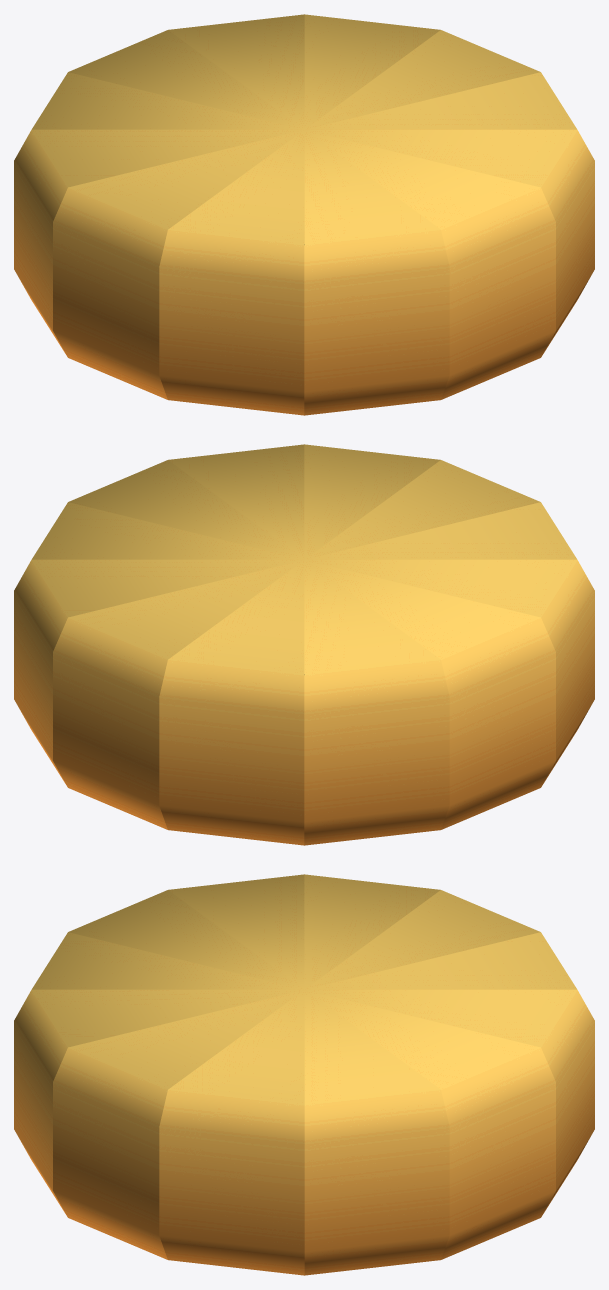
The model's file is cheese.glb.
3 renders of one model, top to bottom at view 1: azimuth 30°, elevation 25°; view 2: azimuth 150°, elevation 25°; view 3: azimuth 270°, elevation 25°, orthographic.
Visible parts, largest first — view 1: wedge (×12); view 2: wedge (×12); view 3: wedge (×12).
Boxes of the visible parts, <box> form: wedge (×12): <box>14,14,594,415</box>; wedge (×12): <box>14,444,594,845</box>; wedge (×12): <box>14,874,594,1275</box>.
Size of the model in its own units: 0.68 by 0.22 by 0.68.
1 material, 1 textured.
